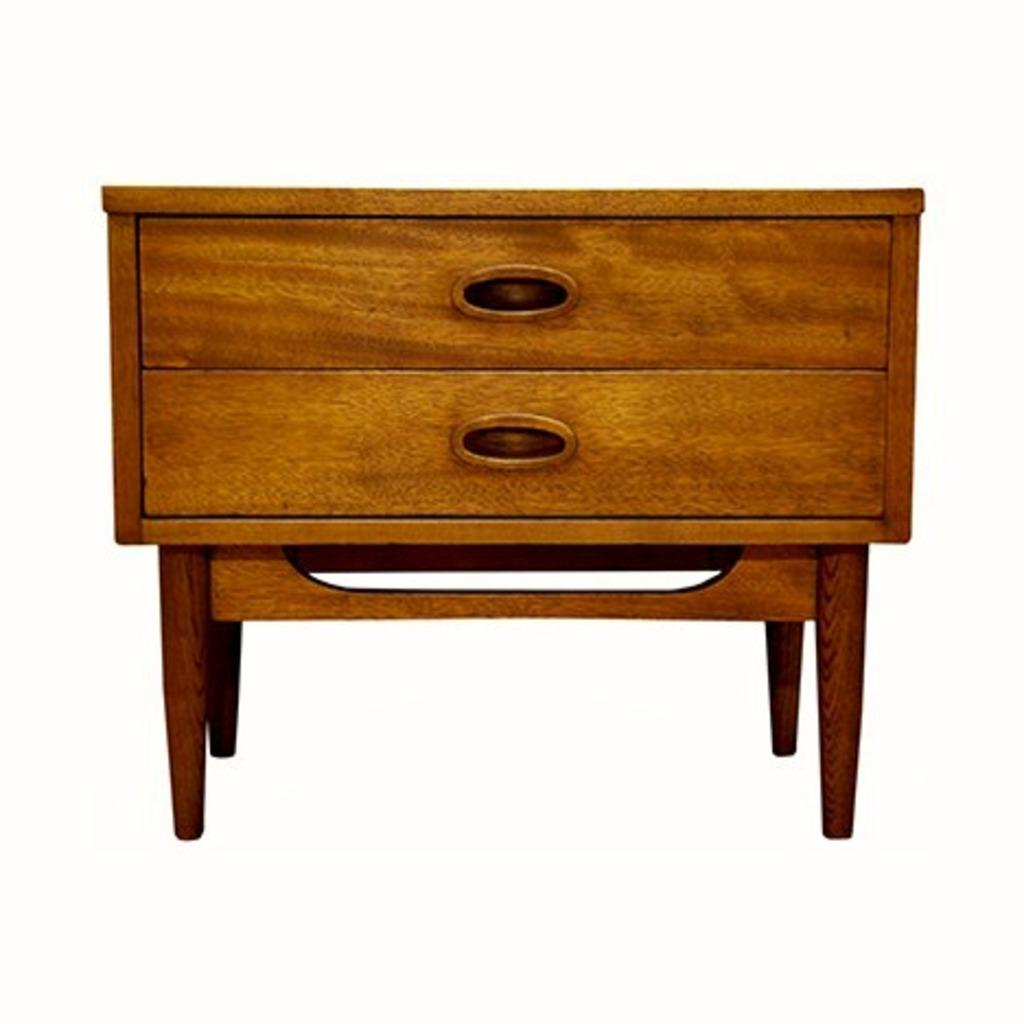cabinet_door: (141, 366, 889, 520), (135, 220, 888, 366)
handle: (454, 254, 580, 332), (440, 400, 579, 470)
